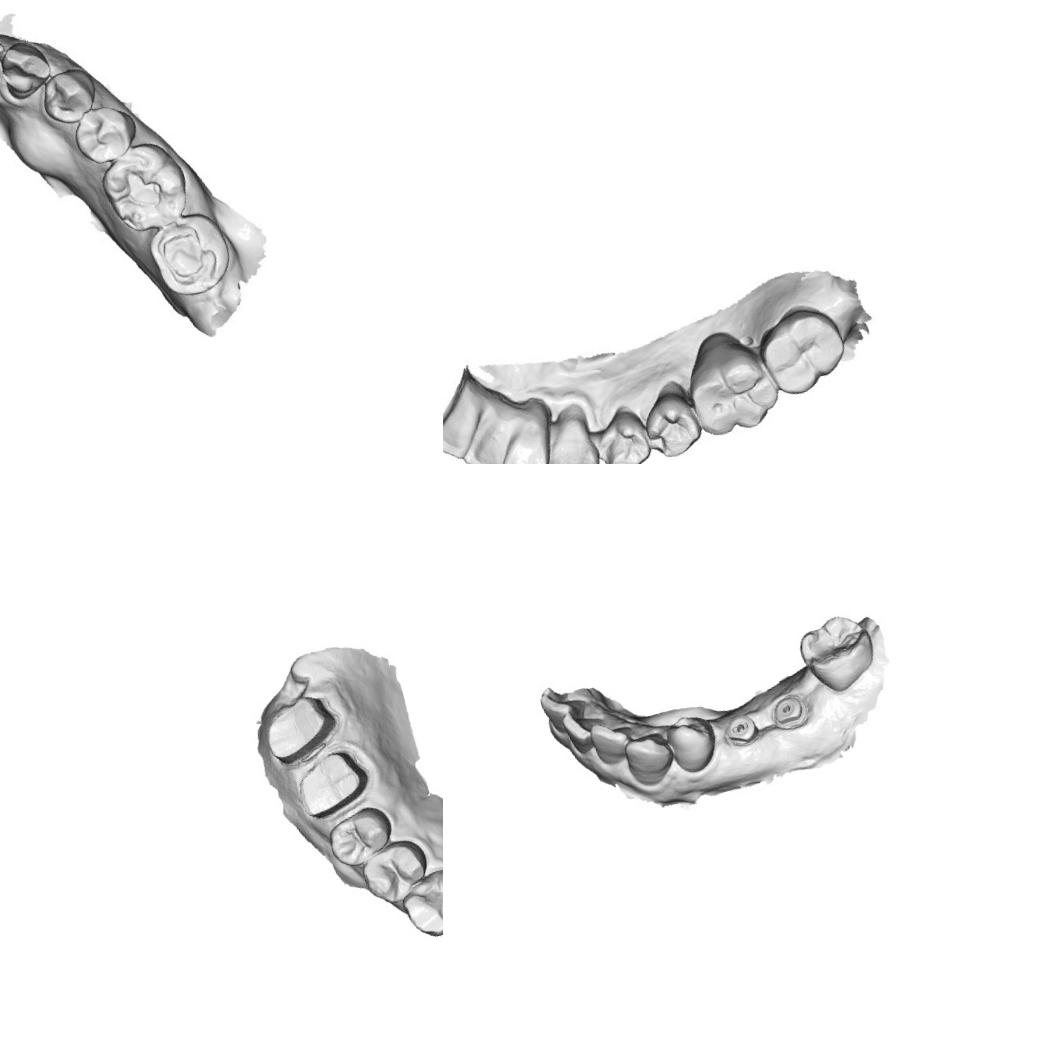canine: (618, 726, 679, 791), (532, 410, 605, 464), (0, 34, 57, 103), (394, 864, 443, 944)
crown: (256, 687, 347, 768), (287, 742, 377, 822)
implant: (765, 687, 812, 735)
implant_minus: (718, 708, 762, 752)
incisor: (452, 407, 524, 464), (487, 410, 560, 464), (443, 391, 490, 464), (586, 712, 642, 770), (536, 682, 594, 737), (560, 703, 612, 757), (0, 27, 12, 89)
molar: (677, 330, 785, 443), (748, 297, 855, 402), (92, 133, 196, 238), (142, 205, 237, 303), (790, 606, 883, 701)
premolar: (353, 832, 436, 911), (634, 384, 707, 464), (321, 800, 400, 870), (68, 98, 144, 168), (660, 707, 724, 778), (35, 63, 102, 129), (585, 403, 654, 464)
